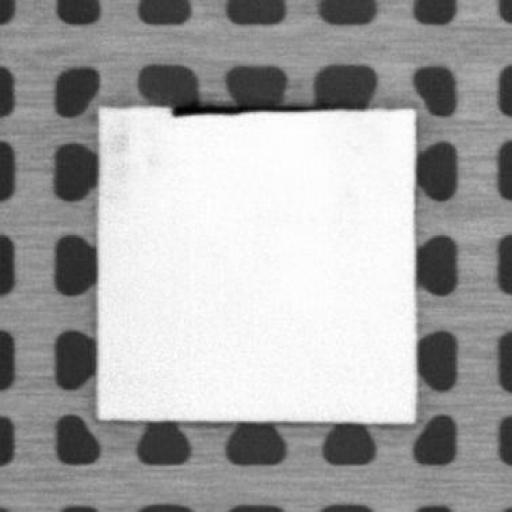DIE_BROKEN: (167, 100, 348, 118)
